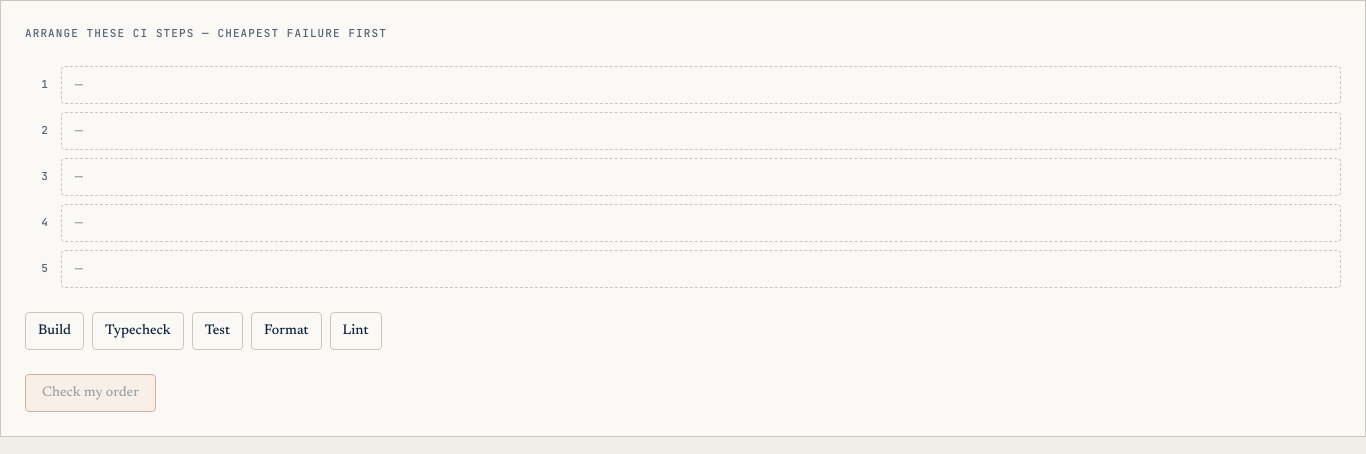
Test: OrderingExercise › clicking a step card fills the first empty slot
Click the button with aria-label "place build". click: x=54, y=330
box: [25,312,84,350]
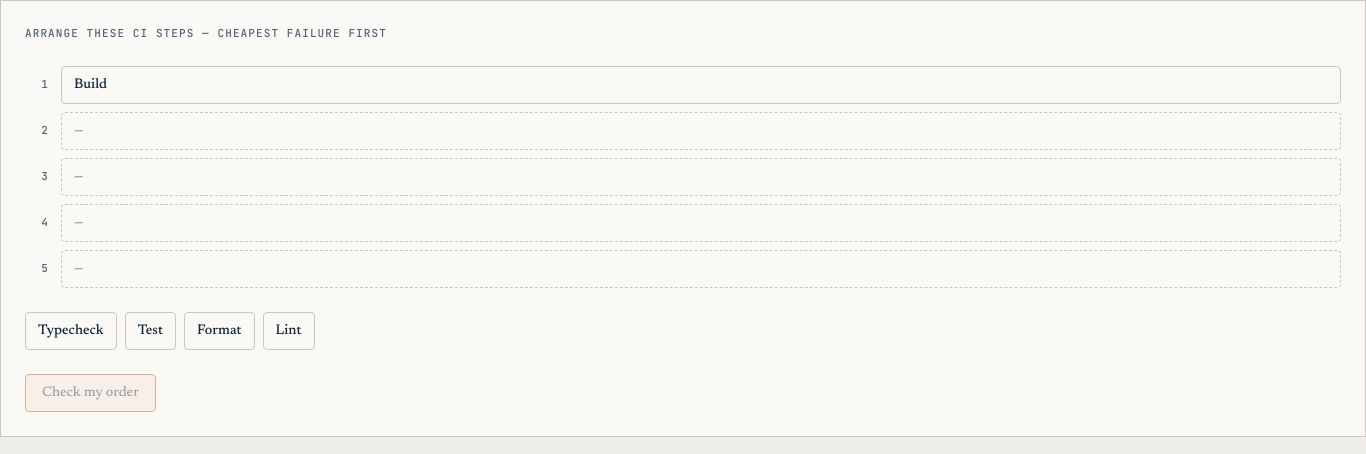
expect the button with aria-label "Position 1" reads "Build": met, box [61,66,1341,104]
